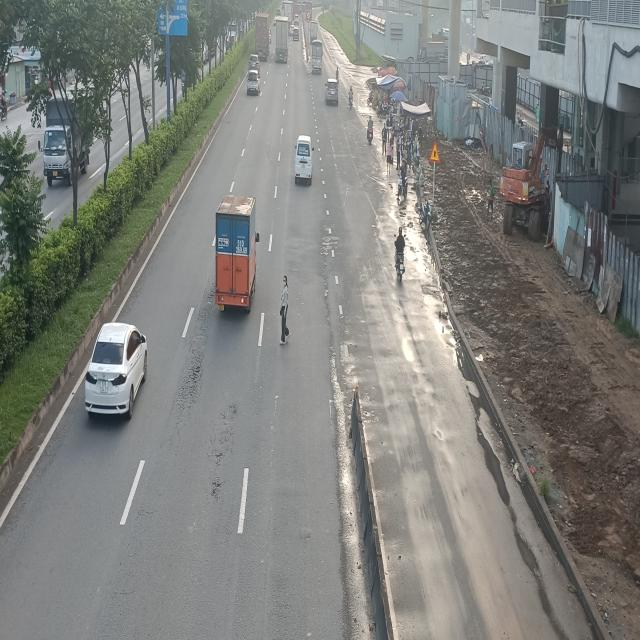car: (87, 320, 150, 419), (326, 78, 340, 106)
container: (213, 197, 260, 315), (254, 12, 269, 56), (275, 17, 288, 62)
truck: (311, 39, 324, 75)
van: (294, 134, 314, 185)
